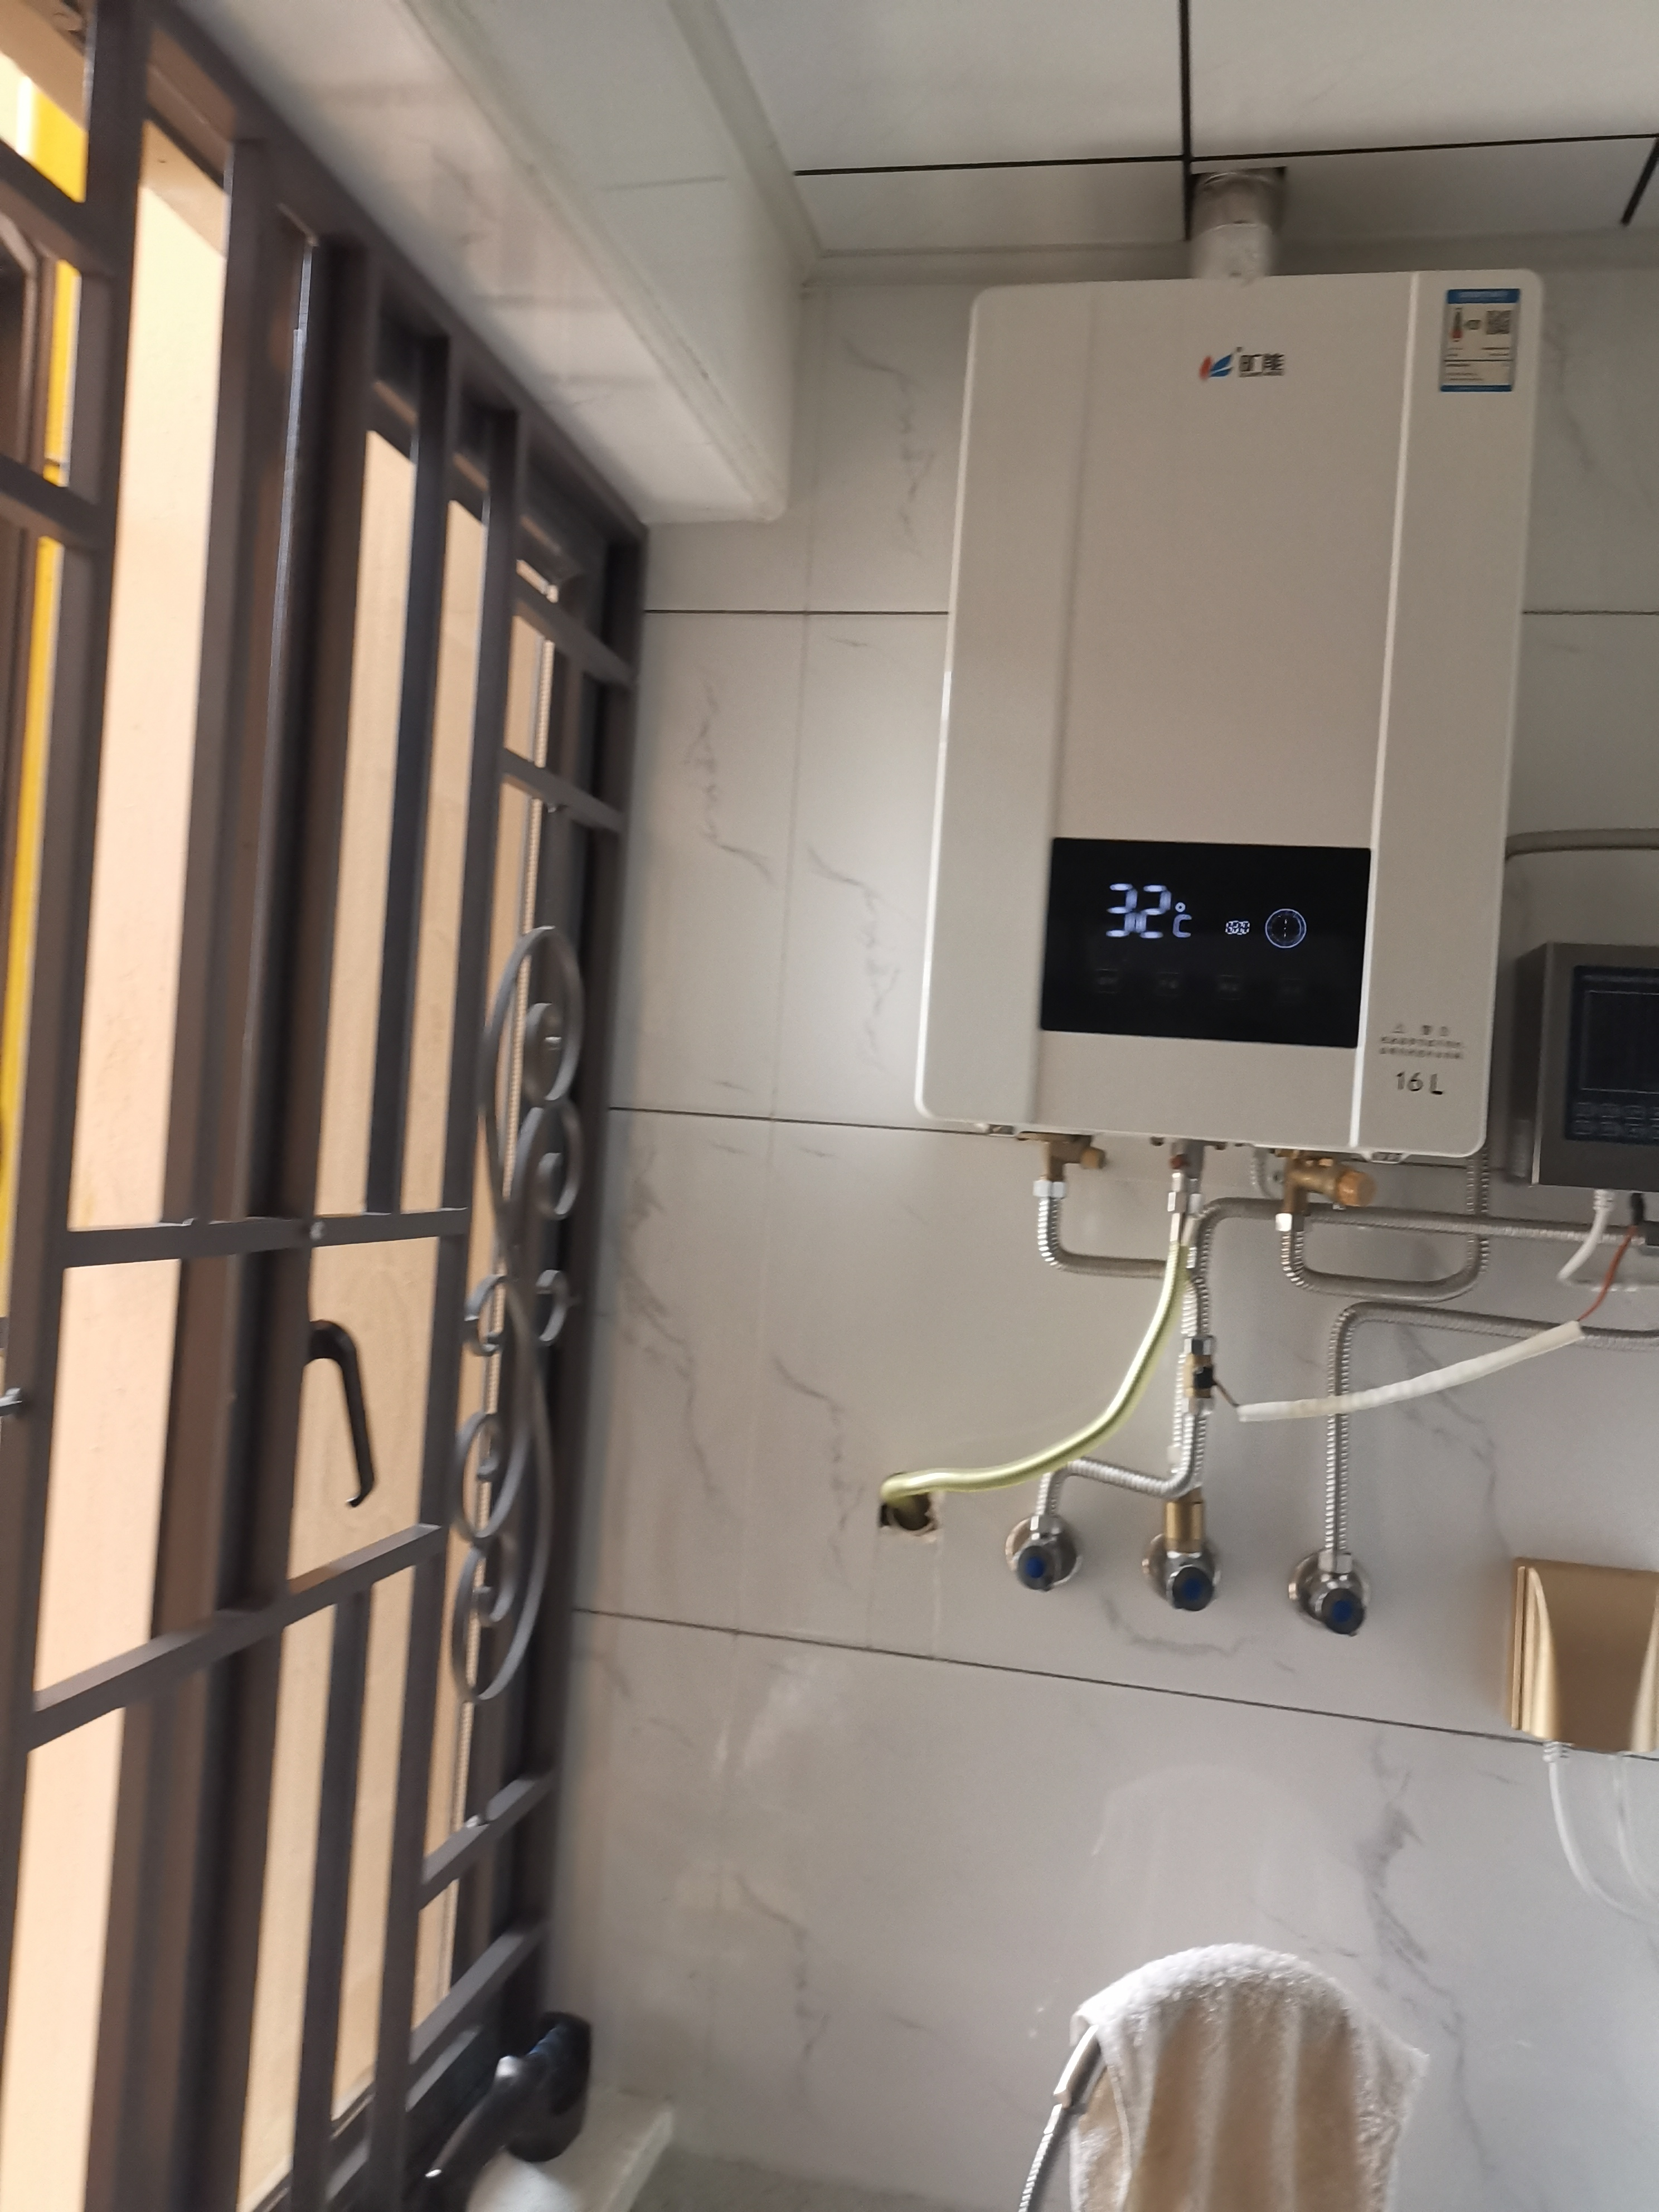loudou: (1178, 334, 1328, 401)
